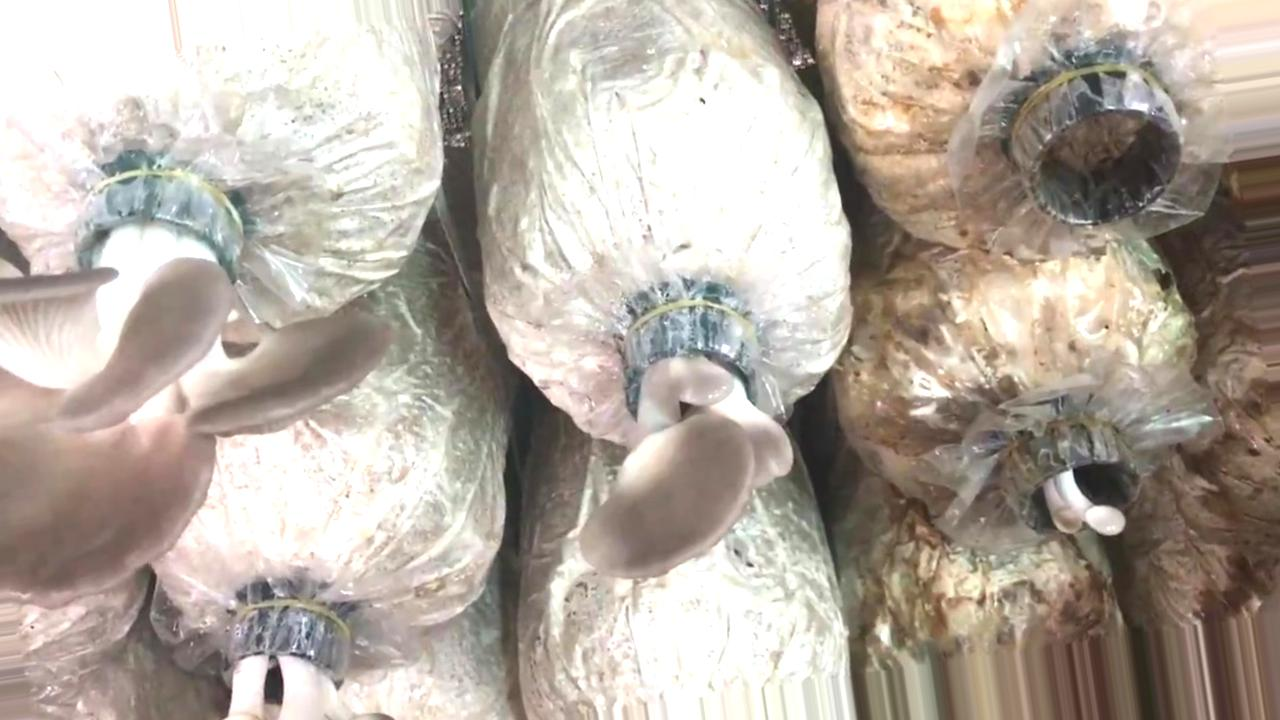nam: (1, 171, 384, 606), (580, 296, 793, 581), (1010, 421, 1152, 538)
